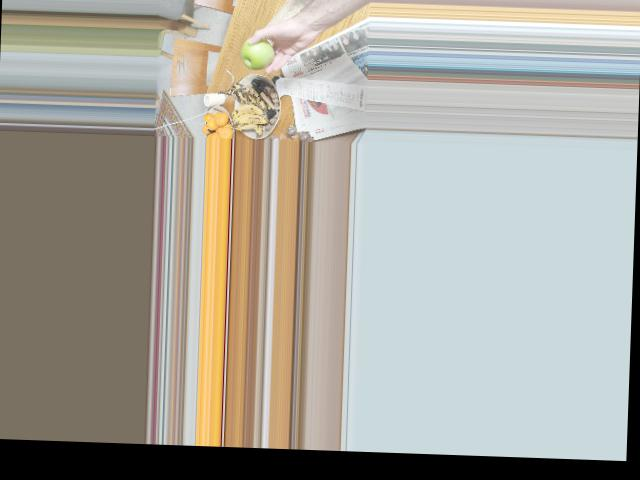apple: (238, 32, 280, 71)
